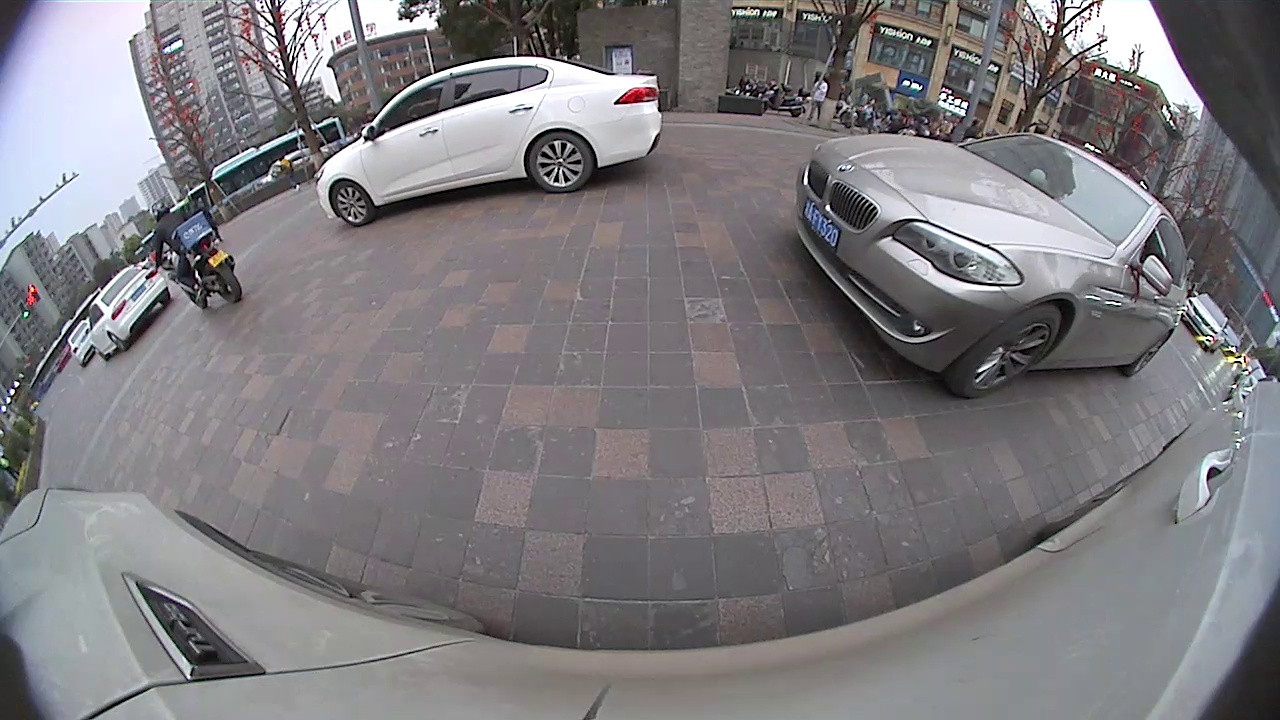car: (792, 130, 1190, 400), (314, 54, 664, 228), (87, 264, 171, 361), (1179, 290, 1231, 355), (67, 318, 101, 370)
front: (950, 301, 1066, 403), (327, 177, 378, 230)
rear: (527, 128, 595, 197), (196, 258, 247, 307)
rider: (149, 200, 244, 311)
